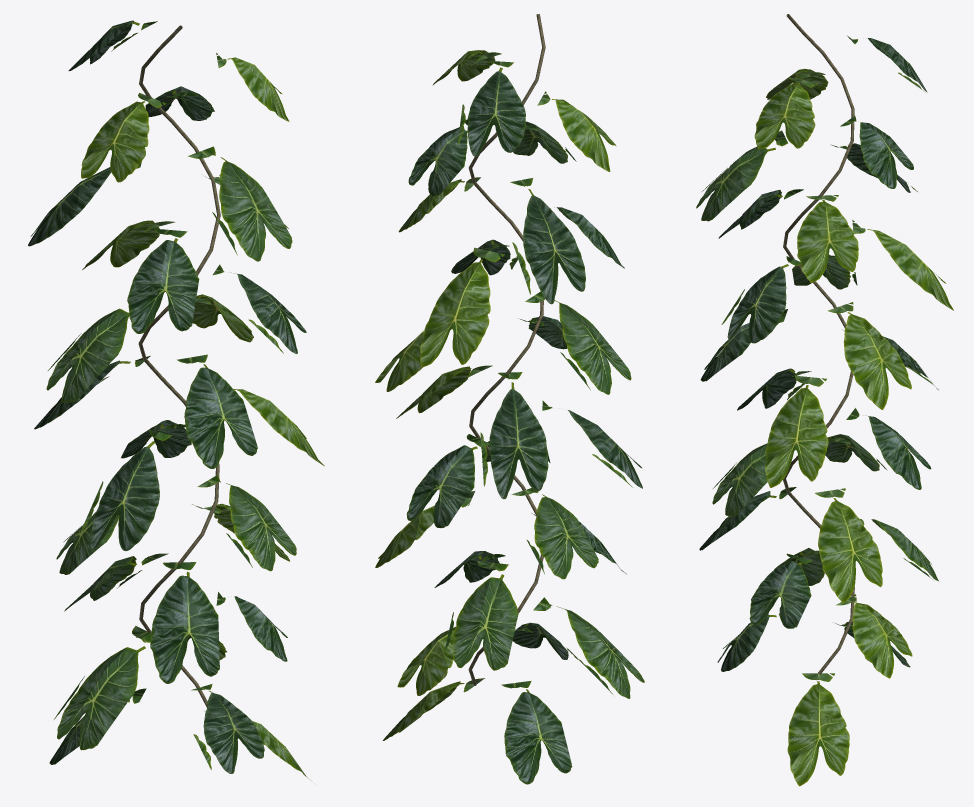
The model's file is climber_01.glb.
The picture shows the model from 3 angles, left to right: view 1: azimuth 30°, elevation 25°; view 2: azimuth 150°, elevation 25°; view 3: azimuth 270°, elevation 25°; orthographic projection. The views are drawn at different scales.
Visible parts, largest first — view 1: climber_01; view 2: climber_01; view 3: climber_01.
Boxes of the visible parts, left/top/right/bottom form: climber_01: left=28, top=20, right=324, bottom=779; climber_01: left=375, top=14, right=644, bottom=784; climber_01: left=696, top=14, right=953, bottom=786.
Size of the model in its own units: 2 by 5.61 by 1.96.
2 materials, 2 textured.
